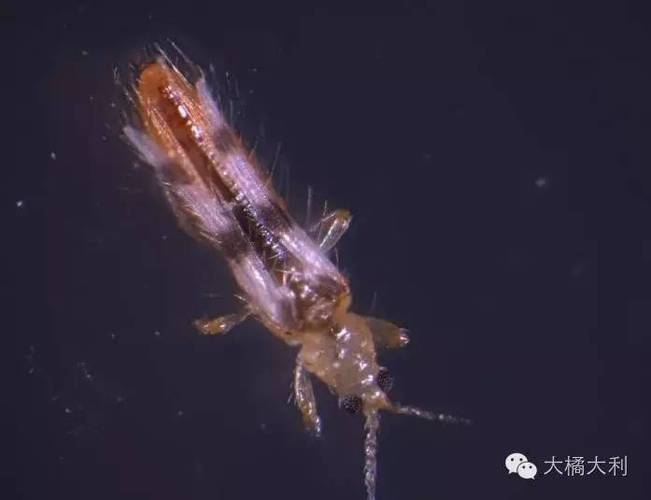Thripidae: (115, 43, 477, 500)
